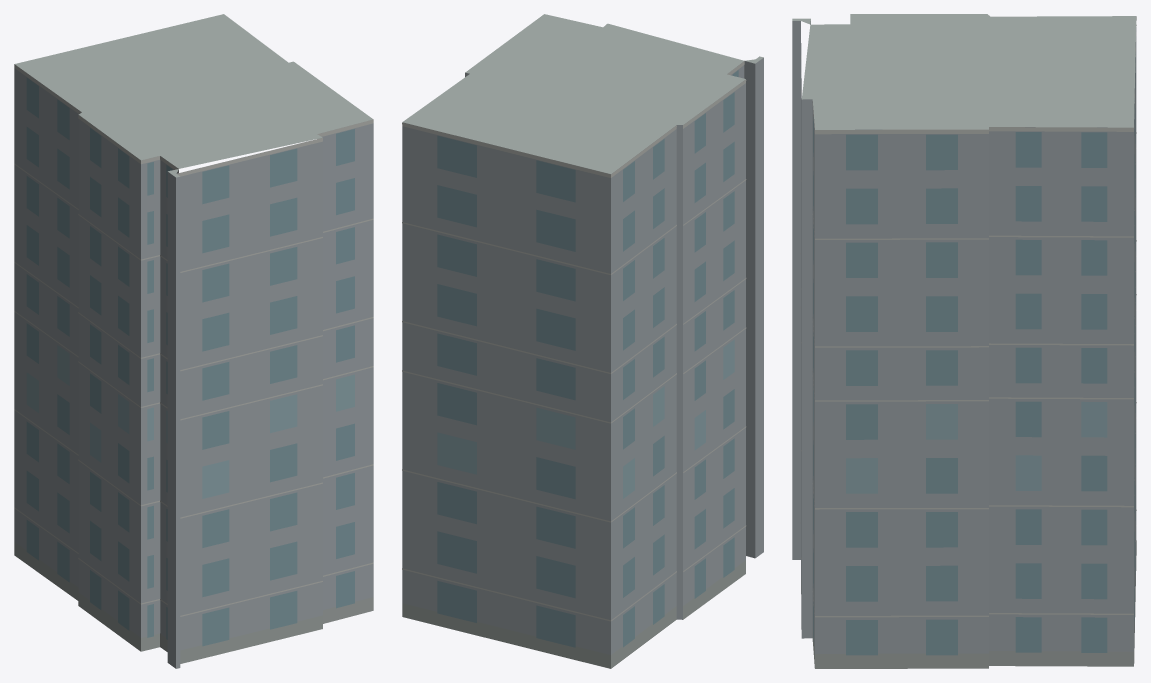
File: survey-upis-32581245.glb
3 views of the same model, side by side, from view 1: azimuth 30°, elevation 25°; view 2: azimuth 150°, elevation 25°; view 3: azimuth 270°, elevation 25° (orthographic). The views are drawn at different scales.
Parts seen in each view (by area): view 1: survey-upis-32581245.tmp; view 2: survey-upis-32581245.tmp; view 3: survey-upis-32581245.tmp.
Boxes of the visible parts, bbox=[...] form: survey-upis-32581245.tmp: bbox=[14, 14, 373, 668]; survey-upis-32581245.tmp: bbox=[402, 14, 763, 668]; survey-upis-32581245.tmp: bbox=[792, 14, 1136, 668].
Size of the model in its own units: 14.09 by 30.5 by 17.66.
